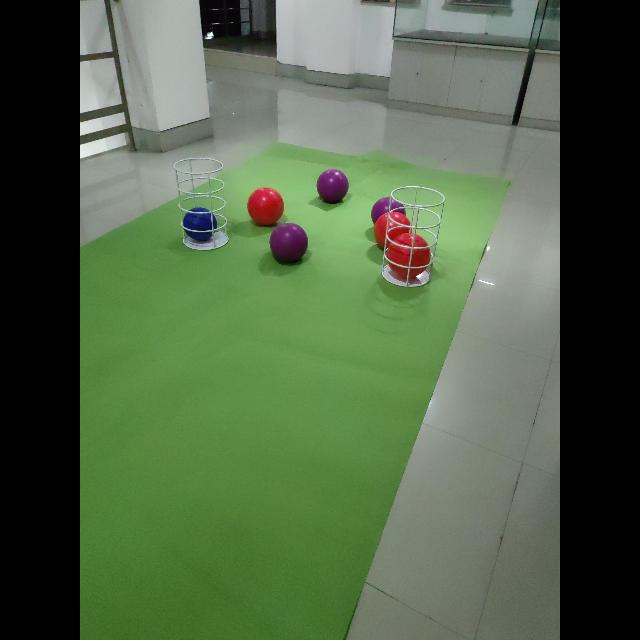B: (182, 208, 218, 242)
P: (270, 222, 309, 262), (316, 169, 349, 204), (371, 195, 405, 221)
R: (386, 233, 431, 279), (375, 211, 412, 250), (248, 188, 284, 225)
S: (380, 186, 444, 285), (174, 158, 229, 250)
